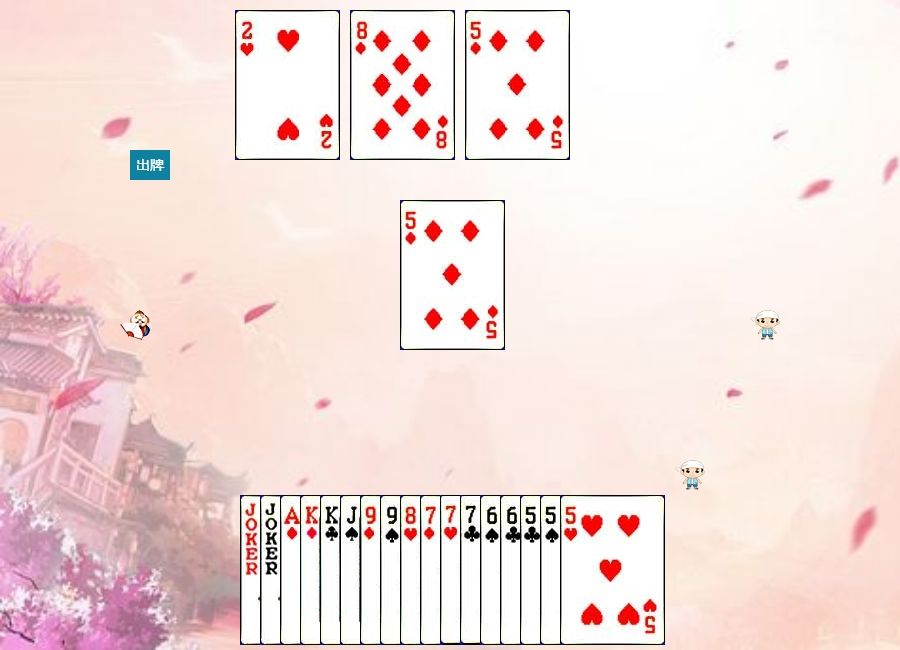11~4: (340, 495, 445, 645)
13~1: (300, 495, 405, 645)
13~2: (320, 495, 425, 645)
14~1: (280, 495, 385, 645)
15~3: (235, 10, 340, 160)
17~3: (260, 495, 365, 645)
18~4: (240, 495, 345, 645)
5~1: (465, 10, 570, 160), (400, 200, 505, 350)
5~2: (520, 495, 625, 645)
5~3: (560, 495, 665, 645)
5~4: (540, 495, 645, 645)
6~2: (500, 495, 605, 645)
6~4: (480, 495, 585, 645)
7~1: (420, 495, 525, 645)
7~2: (460, 495, 565, 645)
7~3: (440, 495, 545, 645)
8~1: (350, 10, 455, 160)
8~3: (400, 495, 505, 645)
9~1: (360, 495, 465, 645)
9~4: (380, 495, 485, 645)
